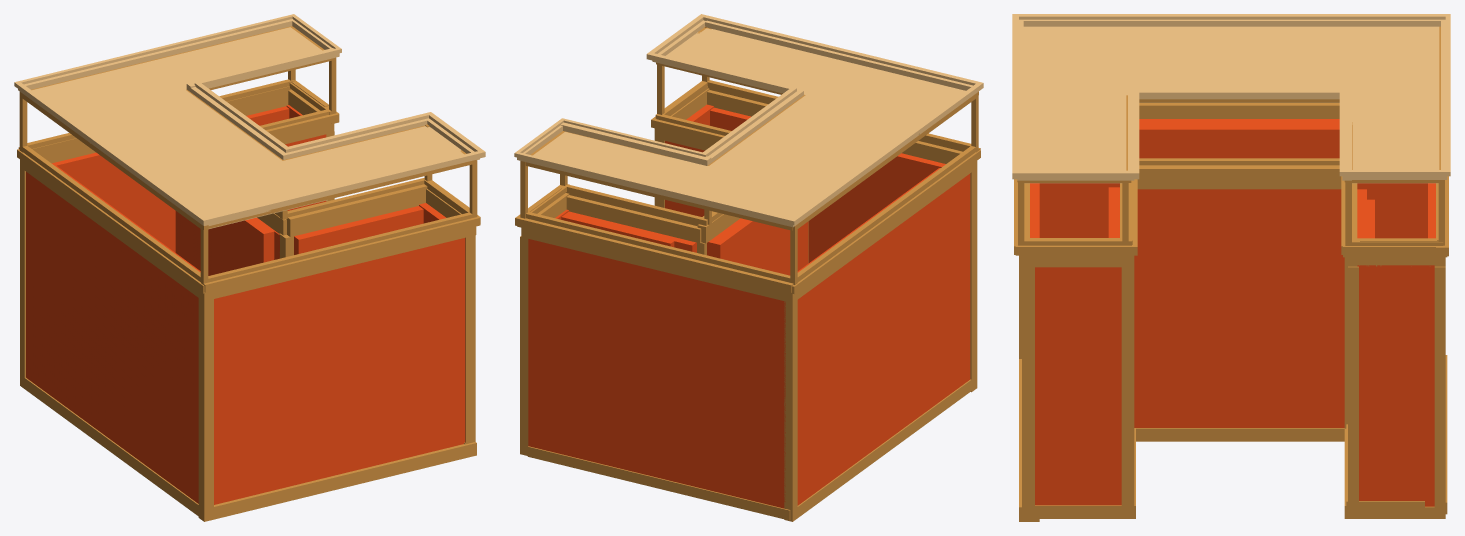
File: building-frame.glb
3 renders of one model, left to right at view 1: azimuth 30°, elevation 25°; view 2: azimuth 150°, elevation 25°; view 3: azimuth 270°, elevation 25°, orthographic. The views are drawn at different scales.
Parts seen in each view (by area): view 1: group425900576, group604171963, group1236733537, group1485373121, group1462172317, group1836840836, group1890145332, group1743085574, group1635985811, group1390326216, group839968050, group2028472825 (+25 smaller); view 2: group1485373121, group604171963, group1236733537, group425900576, group1462172317, group764500564, group1811211691, group1166535630, group502188967, group1071729689, group2028472825, group1103198381 (+26 smaller); view 3: group1462172317, group1236733537, group1027589400, group2000423889, group604171963, group1122832475, group1195797419, group1595410592, group538947234, group20655167, group370597200, group2005919670 (+32 smaller).
Part boxes in pixels (bbox=[...]): group425900576: bbox=[214, 238, 465, 504]; group604171963: bbox=[26, 165, 200, 503]; group1236733537: bbox=[32, 27, 463, 229]; group1485373121: bbox=[52, 106, 289, 252]; group1462172317: bbox=[175, 211, 275, 275]; group1836840836: bbox=[211, 442, 476, 519]; group1890145332: bbox=[198, 298, 213, 521]; group1743085574: bbox=[286, 184, 427, 238]; group1635985811: bbox=[201, 216, 480, 292]; group1390326216: bbox=[294, 206, 423, 254]; group839968050: bbox=[214, 226, 476, 298]; group2028472825: bbox=[20, 375, 201, 518]; group1485373121: bbox=[528, 239, 785, 501]; group604171963: bbox=[797, 168, 970, 505]; group1236733537: bbox=[533, 28, 965, 218]; group425900576: bbox=[710, 107, 945, 262]; group1462172317: bbox=[707, 218, 808, 275]; group764500564: bbox=[528, 432, 784, 508]; group1811211691: bbox=[784, 300, 797, 521]; group1166535630: bbox=[527, 446, 790, 520]; group502188967: bbox=[515, 214, 793, 292]; group1071729689: bbox=[521, 228, 791, 302]; group2028472825: bbox=[793, 378, 974, 517]; group1103198381: bbox=[566, 195, 701, 243]; group1462172317: bbox=[1145, 189, 1344, 427]; group1236733537: bbox=[1023, 26, 1439, 183]; group1027589400: bbox=[1035, 267, 1121, 505]; group2000423889: bbox=[1357, 265, 1434, 506]; group604171963: bbox=[1039, 119, 1427, 238]; group1122832475: bbox=[1019, 19, 1445, 26]; group1195797419: bbox=[1121, 267, 1134, 505]; group1595410592: bbox=[1139, 103, 1339, 118]; group538947234: bbox=[1022, 267, 1034, 507]; group20655167: bbox=[1434, 266, 1445, 518]; group370597200: bbox=[1137, 177, 1341, 189]; group2005919670: bbox=[1134, 189, 1145, 426].
Size of the model in its own units: 2.35 by 2.42 by 2.73.
